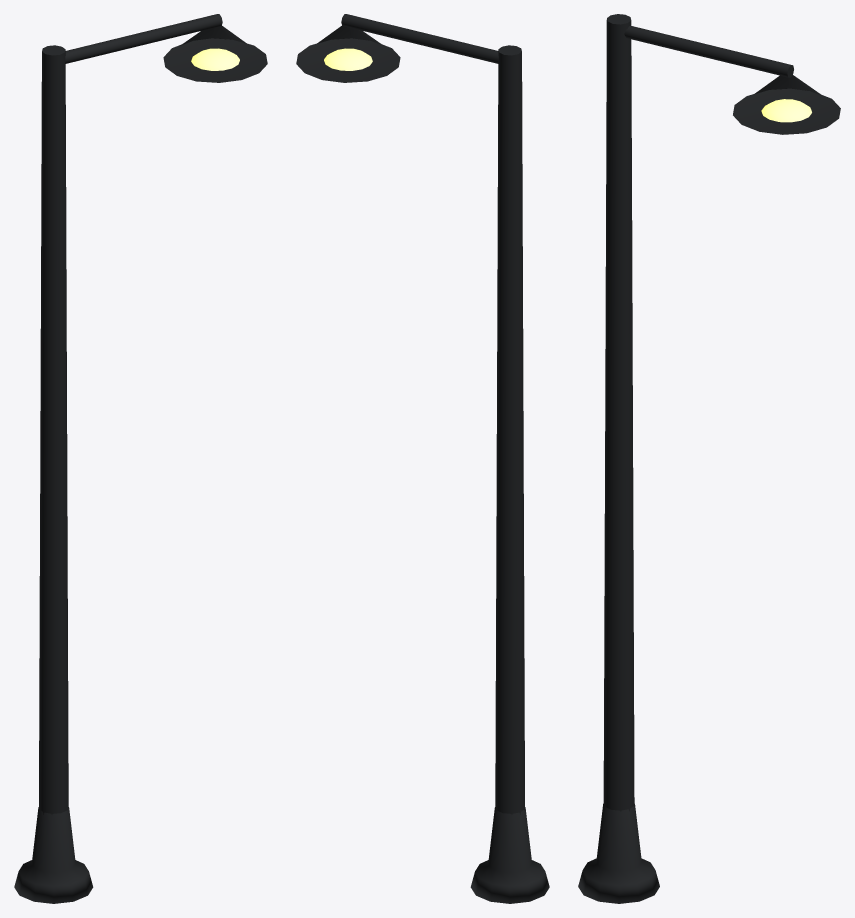
File: street-lamp.glb
3 renders of one model, left to right at view 1: azimuth 30°, elevation 25°; view 2: azimuth 150°, elevation 25°; view 3: azimuth 330°, elevation 25°, orthographic. The views are drawn at different scales.
Parts seen in each view (by area): view 1: iron, lampGlass; view 2: iron, lampGlass; view 3: iron, lampGlass.
Part boxes in pixels (bbox=[...]): iron: bbox=[14, 14, 267, 903]; lampGlass: bbox=[191, 48, 239, 70]; iron: bbox=[296, 14, 549, 903]; lampGlass: bbox=[324, 48, 372, 70]; iron: bbox=[578, 14, 840, 903]; lampGlass: bbox=[761, 99, 811, 122].
Bounding box in the file's own units: 1.26 × 4.2 × 0.48.
